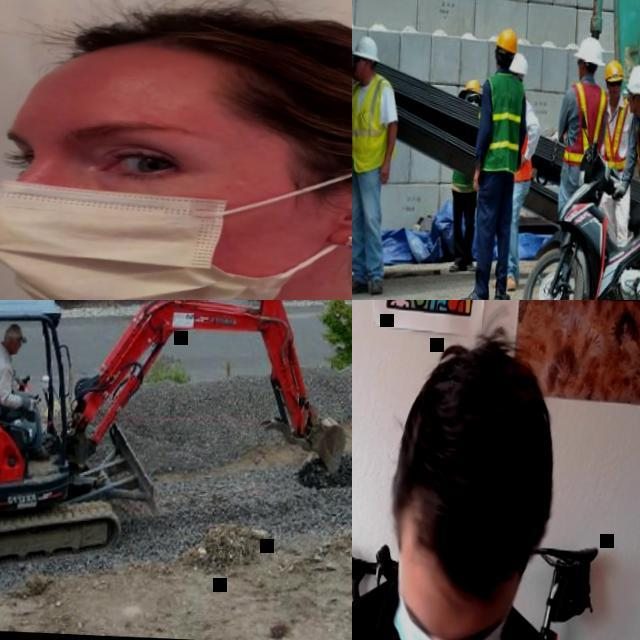helmet: (576, 36, 605, 66), (352, 35, 380, 61), (604, 60, 625, 84), (496, 29, 517, 52), (509, 54, 528, 78), (626, 64, 640, 93), (460, 79, 482, 97)
vest: (482, 70, 526, 172), (562, 80, 610, 166), (352, 73, 391, 175), (451, 100, 482, 194), (600, 93, 634, 172), (514, 131, 536, 184)
